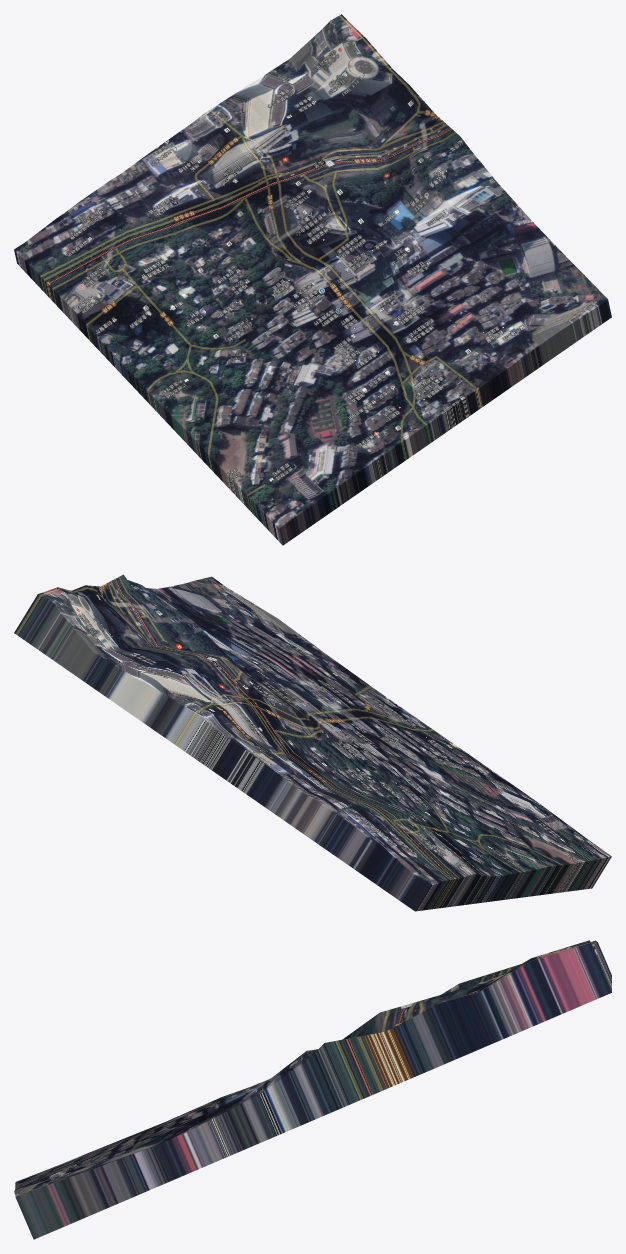
3 renders of one model, top to bottom at view 1: azimuth 30°, elevation 25°; view 2: azimuth 150°, elevation 25°; view 3: azimuth 270°, elevation 25°, orthographic. The views are drawn at different scales.
Visible parts, largest first — view 1: 0_7_15; view 2: 0_7_15; view 3: 0_7_15.
Part boxes in pixels (x1,y1,x2,y2): 0_7_15: [14, 14, 611, 545]; 0_7_15: [14, 574, 611, 911]; 0_7_15: [14, 940, 611, 1239].
Bounding box in the file's own units: 605 × 471 × 560.
Materials: 1 (1 with a texture image).
